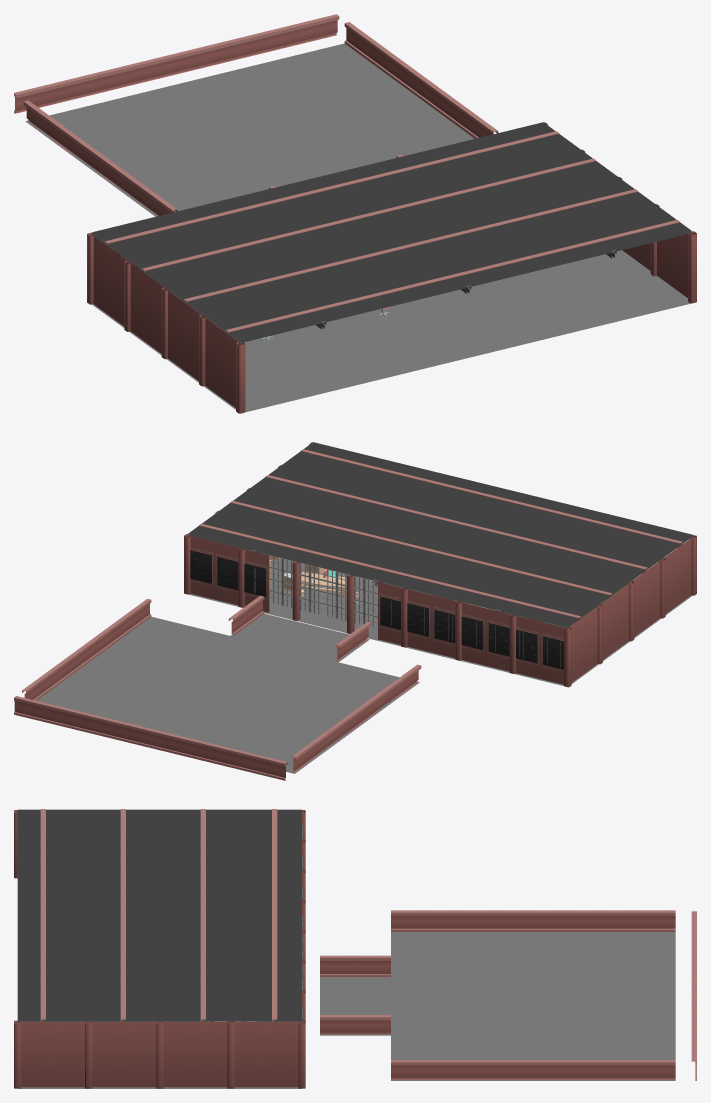
File: operations_office_set.glb
3 renders of one model, top to bottom at view 1: azimuth 30°, elevation 25°; view 2: azimuth 150°, elevation 25°; view 3: azimuth 270°, elevation 25°, orthographic. The views are drawn at different scales.
Parts seen in each view (by area): view 1: LeftWall_3_01_WallFull, LeftWall_7_01_WallFull, LeftWall_-1_01_WallFull, LeftWall_-5_01_WallFull, LeftWall_1_01_WallFull, LeftWall_5_01_WallFull, LeftWall_-7_01_WallFull, LeftWall_-3_01_WallFull, RightWall_-7_01_WallFull, RightWall_-5_01_WallFull, HelipadTrimRear_-3_01_RoofTrimBStraightFull, HelipadTrimRear_7_01_RoofTrimBStraightFull (+146 smaller); view 2: PanoramicWindow_-7_01_WindowBFull, PanoramicWindow_-11_01_WindowBFull, PanoramicWindow_-3_01_WindowBFull, PanoramicWindow_13_01_WindowBFull, PanoramicWindow_-13_01_WindowBFull, PanoramicWindow_-9_01_WindowBFull, PanoramicWindow_11_01_WindowBFull, PanoramicWindow_-5_01_WindowBFull, PanoramicWindow_-1_01_WindowBFull, PanoramicWindow_9_01_WindowBFull, LeftWall_1_01_WallFull, LeftWall_-3_01_WallFull (+21 smaller); view 3: RightWall_-3_01_WallFull, RightWall_-1_01_WallFull, RightWall_1_01_WallFull, RightWall_3_01_WallFull, RightWall_5_01_WallFull, RightWall_7_01_WallFull, RightWall_-5_01_WallFull, RightWall_-7_01_WallFull, HelipadTrimLeft_16_01_RoofTrimBStraightFull, HelipadTrimLeft_20_01_RoofTrimBStraightFull, BridgeTrimLeft_10.0_01_RoofTrimBStraightFull, HelipadTrimLeft_14_01_RoofTrimBStraightFull (+201 smaller).
Boxes of the visible parts, left/top/right/bottom form: LeftWall_3_01_WallFull: left=129, top=262, right=147, bottom=343; LeftWall_7_01_WallFull: left=91, top=234, right=110, bottom=315; LeftWall_-1_01_WallFull: left=166, top=289, right=184, bottom=370; LeftWall_-5_01_WallFull: left=203, top=316, right=221, bottom=397; LeftWall_1_01_WallFull: left=147, top=275, right=166, bottom=353; LeftWall_5_01_WallFull: left=110, top=248, right=128, bottom=326; LeftWall_-7_01_WallFull: left=222, top=330, right=240, bottom=407; LeftWall_-3_01_WallFull: left=185, top=303, right=203, bottom=380; RightWall_-7_01_WallFull: left=673, top=233, right=692, bottom=297; RightWall_-5_01_WallFull: left=657, top=237, right=673, bottom=287; HelipadTrimRear_-3_01_RoofTrimBStraightFull: left=46, top=77, right=81, bottom=105; HelipadTrimRear_7_01_RoofTrimBStraightFull: left=207, top=38, right=242, bottom=66; PanoramicWindow_-7_01_WindowBFull: left=459, top=602, right=486, bottom=665; PanoramicWindow_-11_01_WindowBFull: left=513, top=615, right=540, bottom=678; PanoramicWindow_-3_01_WindowBFull: left=405, top=588, right=431, bottom=652; PanoramicWindow_13_01_WindowBFull: left=188, top=535, right=214, bottom=599; PanoramicWindow_-13_01_WindowBFull: left=540, top=621, right=567, bottom=684; PanoramicWindow_-9_01_WindowBFull: left=486, top=608, right=513, bottom=671; PanoramicWindow_11_01_WindowBFull: left=215, top=542, right=242, bottom=604; PanoramicWindow_-5_01_WindowBFull: left=432, top=595, right=459, bottom=657; PanoramicWindow_-1_01_WindowBFull: left=378, top=582, right=404, bottom=644; PanoramicWindow_9_01_WindowBFull: left=242, top=549, right=269, bottom=612; LeftWall_1_01_WallFull: left=614, top=583, right=630, bottom=650; LeftWall_-3_01_WallFull: left=646, top=560, right=661, bottom=627; RightWall_-3_01_WallFull: left=88, top=1022, right=124, bottom=1087; RightWall_-1_01_WallFull: left=124, top=1022, right=159, bottom=1087; RightWall_1_01_WallFull: left=160, top=1022, right=195, bottom=1087; RightWall_3_01_WallFull: left=195, top=1022, right=230, bottom=1087; RightWall_5_01_WallFull: left=231, top=1022, right=266, bottom=1087; RightWall_7_01_WallFull: left=266, top=1022, right=301, bottom=1087; RightWall_-5_01_WallFull: left=53, top=1022, right=88, bottom=1087; RightWall_-7_01_WallFull: left=17, top=1022, right=52, bottom=1087; HelipadTrimLeft_16_01_RoofTrimBStraightFull: left=426, top=910, right=462, bottom=931; HelipadTrimLeft_20_01_RoofTrimBStraightFull: left=497, top=910, right=533, bottom=931; BridgeTrimLeft_10.0_01_RoofTrimBStraightFull: left=320, top=955, right=355, bottom=976; HelipadTrimLeft_14_01_RoofTrimBStraightFull: left=391, top=910, right=426, bottom=931.
Bounding box in the file's own units: 28.4 × 4.3 × 38.4.
Materials: 24 (1 with a texture image).
